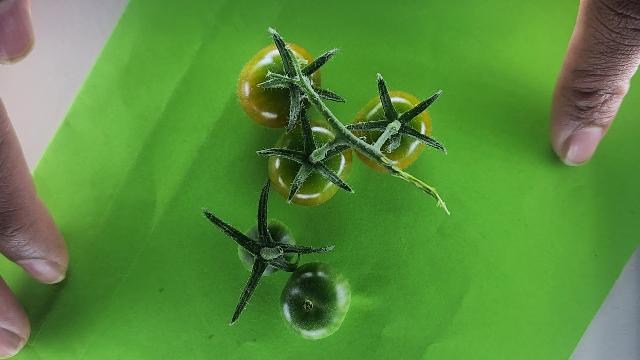Fruit Maturation: (279, 262, 353, 341), (240, 218, 298, 276)
Fully Grown: (236, 41, 322, 129), (268, 119, 351, 206), (351, 90, 433, 172)
